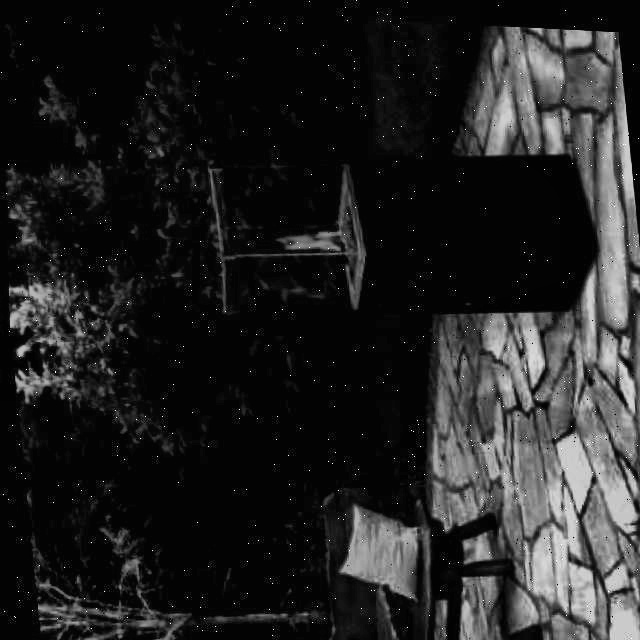Fire: (264, 209, 364, 264)
